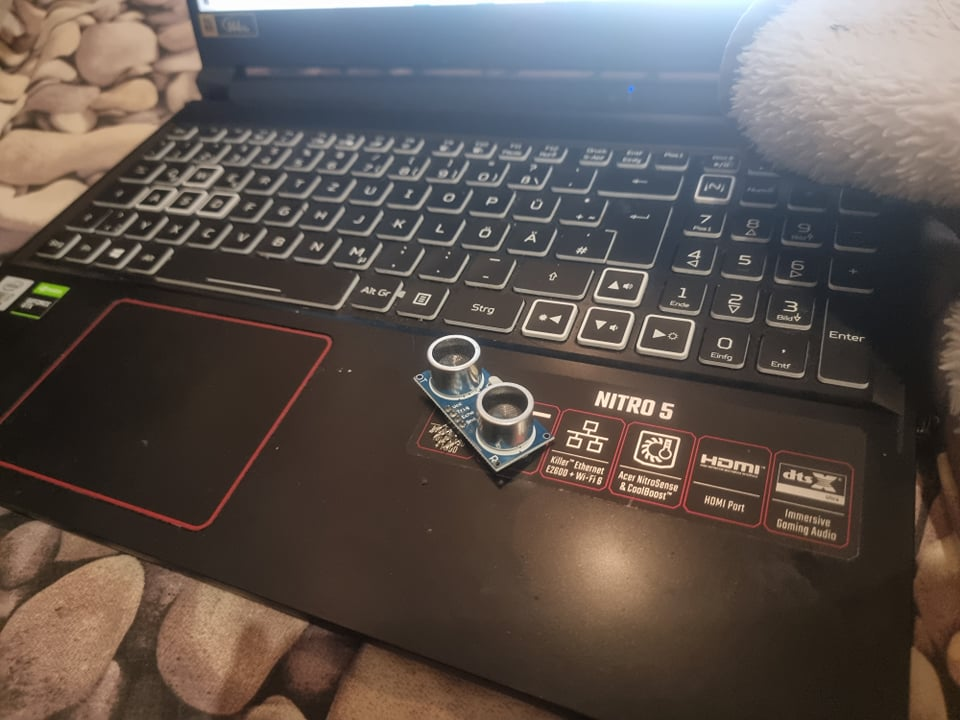SENSOR: (412, 332, 554, 474)
